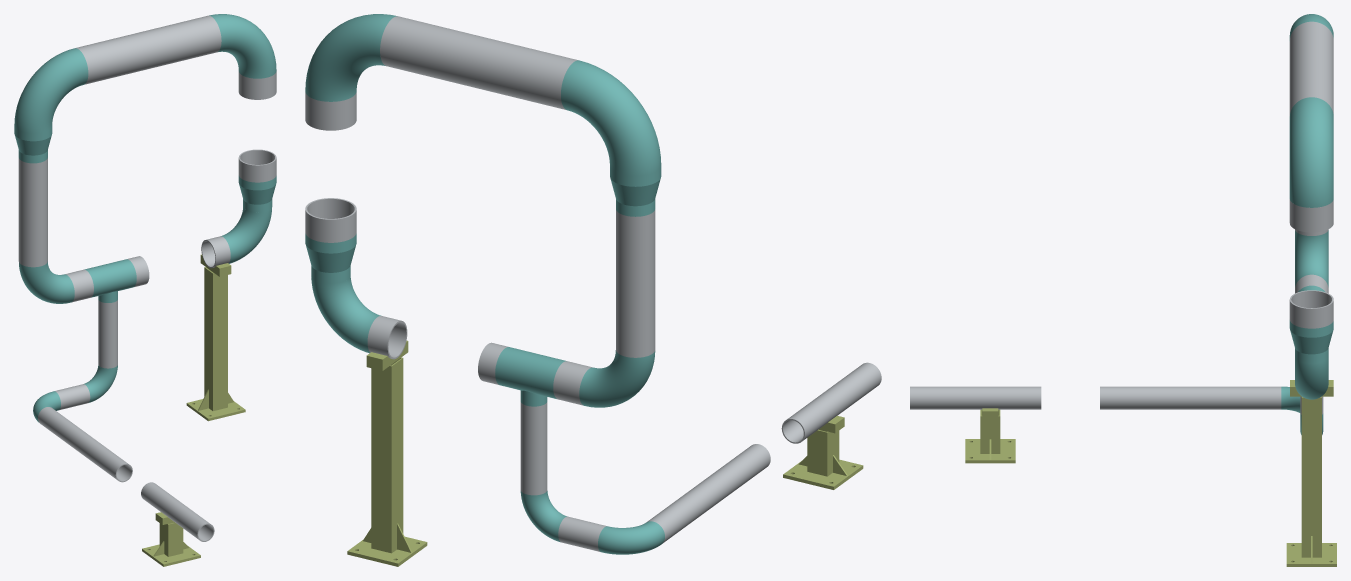
The model's file is step_30.glb.
The picture shows the model from 3 angles, left to right: view 1: azimuth 30°, elevation 25°; view 2: azimuth 150°, elevation 25°; view 3: azimuth 270°, elevation 25°; orthographic projection. The views are drawn at different scales.
Visible parts, largest first — view 1: part__8" pipe, top run, 890 long, part__pipe support SP-101, tall, part__8" elbow top left, part__6" pipe, left riser, 664 long, part__8" elbow top right, part__4" pipe, inlet to the needle valve, 902 long, part__4" pipe, inlet end, 654 long, part__pipe support SP-101, short, part__6" elbow bottom left, part__6" elbow bottom right, part__6" x 4" reducing tee, part__4" pipe, branch drop, 418 long (+10 smaller); view 2: part__8" pipe, top run, 890 long, part__pipe support SP-101, tall, part__8" elbow top left, part__6" pipe, left riser, 664 long, part__8" elbow top right, part__4" pipe, inlet to the needle valve, 902 long, part__4" pipe, inlet end, 654 long, part__pipe support SP-101, short, part__6" elbow bottom left, part__6" x 4" reducing tee, part__6" elbow bottom right, part__4" pipe, branch drop, 418 long (+10 smaller); view 3: part__8" elbow top right, part__pipe support SP-101, tall, part__4" pipe, inlet to the needle valve, 902 long, part__8" pipe, top run, 890 long, part__4" pipe, inlet end, 654 long, part__pipe support SP-101, short, part__8" pipe, right leg below the gate valve, 109 long, part__6" elbow bottom left, part__reducer right leg, part__6" elbow bottom right, part__8" pipe, right leg above the gate valve, 136 long.
Boxes of the visible parts, x1=… form: part__8" pipe, top run, 890 long: x1=75, y1=15, x2=221, y2=84; part__pipe support SP-101, tall: x1=186, y1=254, x2=245, y2=421; part__8" elbow top left: x1=14, y1=48, x2=88, y2=133; part__6" pipe, left riser, 664 long: x1=18, y1=158, x2=47, y2=267; part__8" elbow top right: x1=209, y1=14, x2=276, y2=78; part__4" pipe, inlet to the needle valve, 902 long: x1=38, y1=407, x2=132, y2=482; part__4" pipe, inlet end, 654 long: x1=141, y1=482, x2=214, y2=541; part__pipe support SP-101, short: x1=142, y1=512, x2=200, y2=566; part__6" elbow bottom left: x1=19, y1=261, x2=74, y2=303; part__6" elbow bottom right: x1=221, y1=207, x2=271, y2=263; part__6" x 4" reducing tee: x1=84, y1=259, x2=136, y2=302; part__4" pipe, branch drop, 418 long: x1=98, y1=300, x2=117, y2=368; part__8" pipe, top run, 890 long: x1=380, y1=16, x2=577, y2=109; part__pipe support SP-101, tall: x1=347, y1=340, x2=427, y2=566; part__8" elbow top left: x1=561, y1=60, x2=661, y2=176; part__6" pipe, left riser, 664 long: x1=616, y1=209, x2=655, y2=357; part__8" elbow top right: x1=305, y1=14, x2=397, y2=101; part__4" pipe, inlet to the needle valve, 902 long: x1=647, y1=444, x2=770, y2=542; part__4" pipe, inlet end, 654 long: x1=781, y1=362, x2=881, y2=443; part__pipe support SP-101, short: x1=783, y1=415, x2=863, y2=489; part__6" elbow bottom left: x1=579, y1=350, x2=655, y2=407; part__6" x 4" reducing tee: x1=495, y1=347, x2=566, y2=406; part__6" elbow bottom right: x1=311, y1=276, x2=381, y2=353; part__4" pipe, branch drop, 418 long: x1=520, y1=402, x2=547, y2=495; part__8" elbow top right: x1=1289, y1=97, x2=1333, y2=207; part__pipe support SP-101, tall: x1=1286, y1=380, x2=1336, y2=566; part__4" pipe, inlet to the needle valve, 902 long: x1=1100, y1=386, x2=1281, y2=409; part__8" pipe, top run, 890 long: x1=1289, y1=21, x2=1333, y2=115; part__4" pipe, inlet end, 654 long: x1=910, y1=386, x2=1041, y2=409; part__pipe support SP-101, short: x1=965, y1=408, x2=1015, y2=463; part__8" pipe, right leg below the gate valve, 109 long: x1=1289, y1=290, x2=1333, y2=328; part__6" elbow bottom left: x1=1295, y1=230, x2=1328, y2=287; part__reducer right leg: x1=1289, y1=320, x2=1333, y2=363; part__6" elbow bottom right: x1=1295, y1=357, x2=1328, y2=399; part__8" pipe, right leg above the gate valve, 136 long: x1=1289, y1=199, x2=1333, y2=232.
Bounding box in the file's own units: 1735 × 2510 × 2125.
